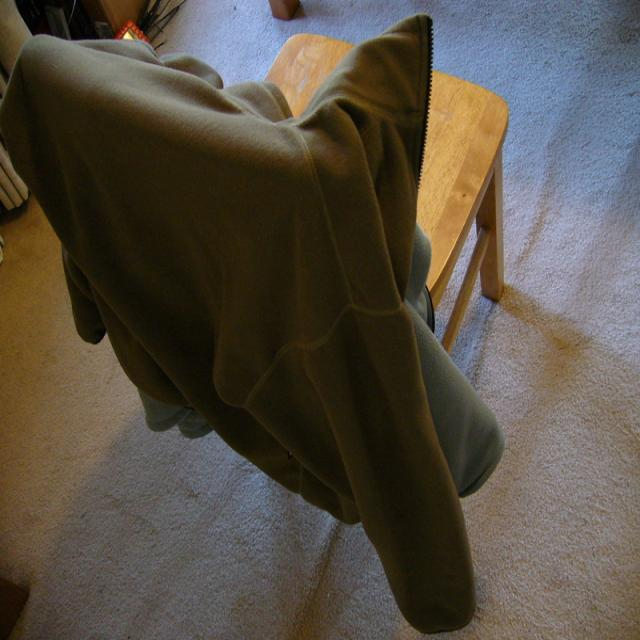chair: (417, 72, 507, 353)
